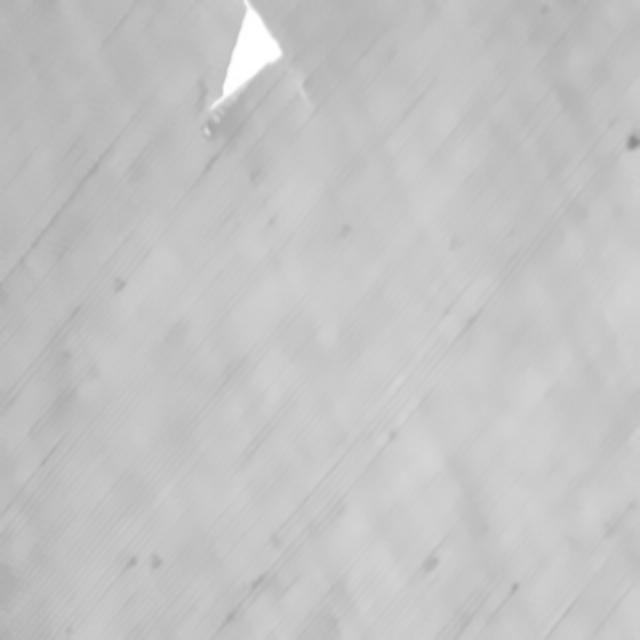seam: (208, 4, 284, 118)
